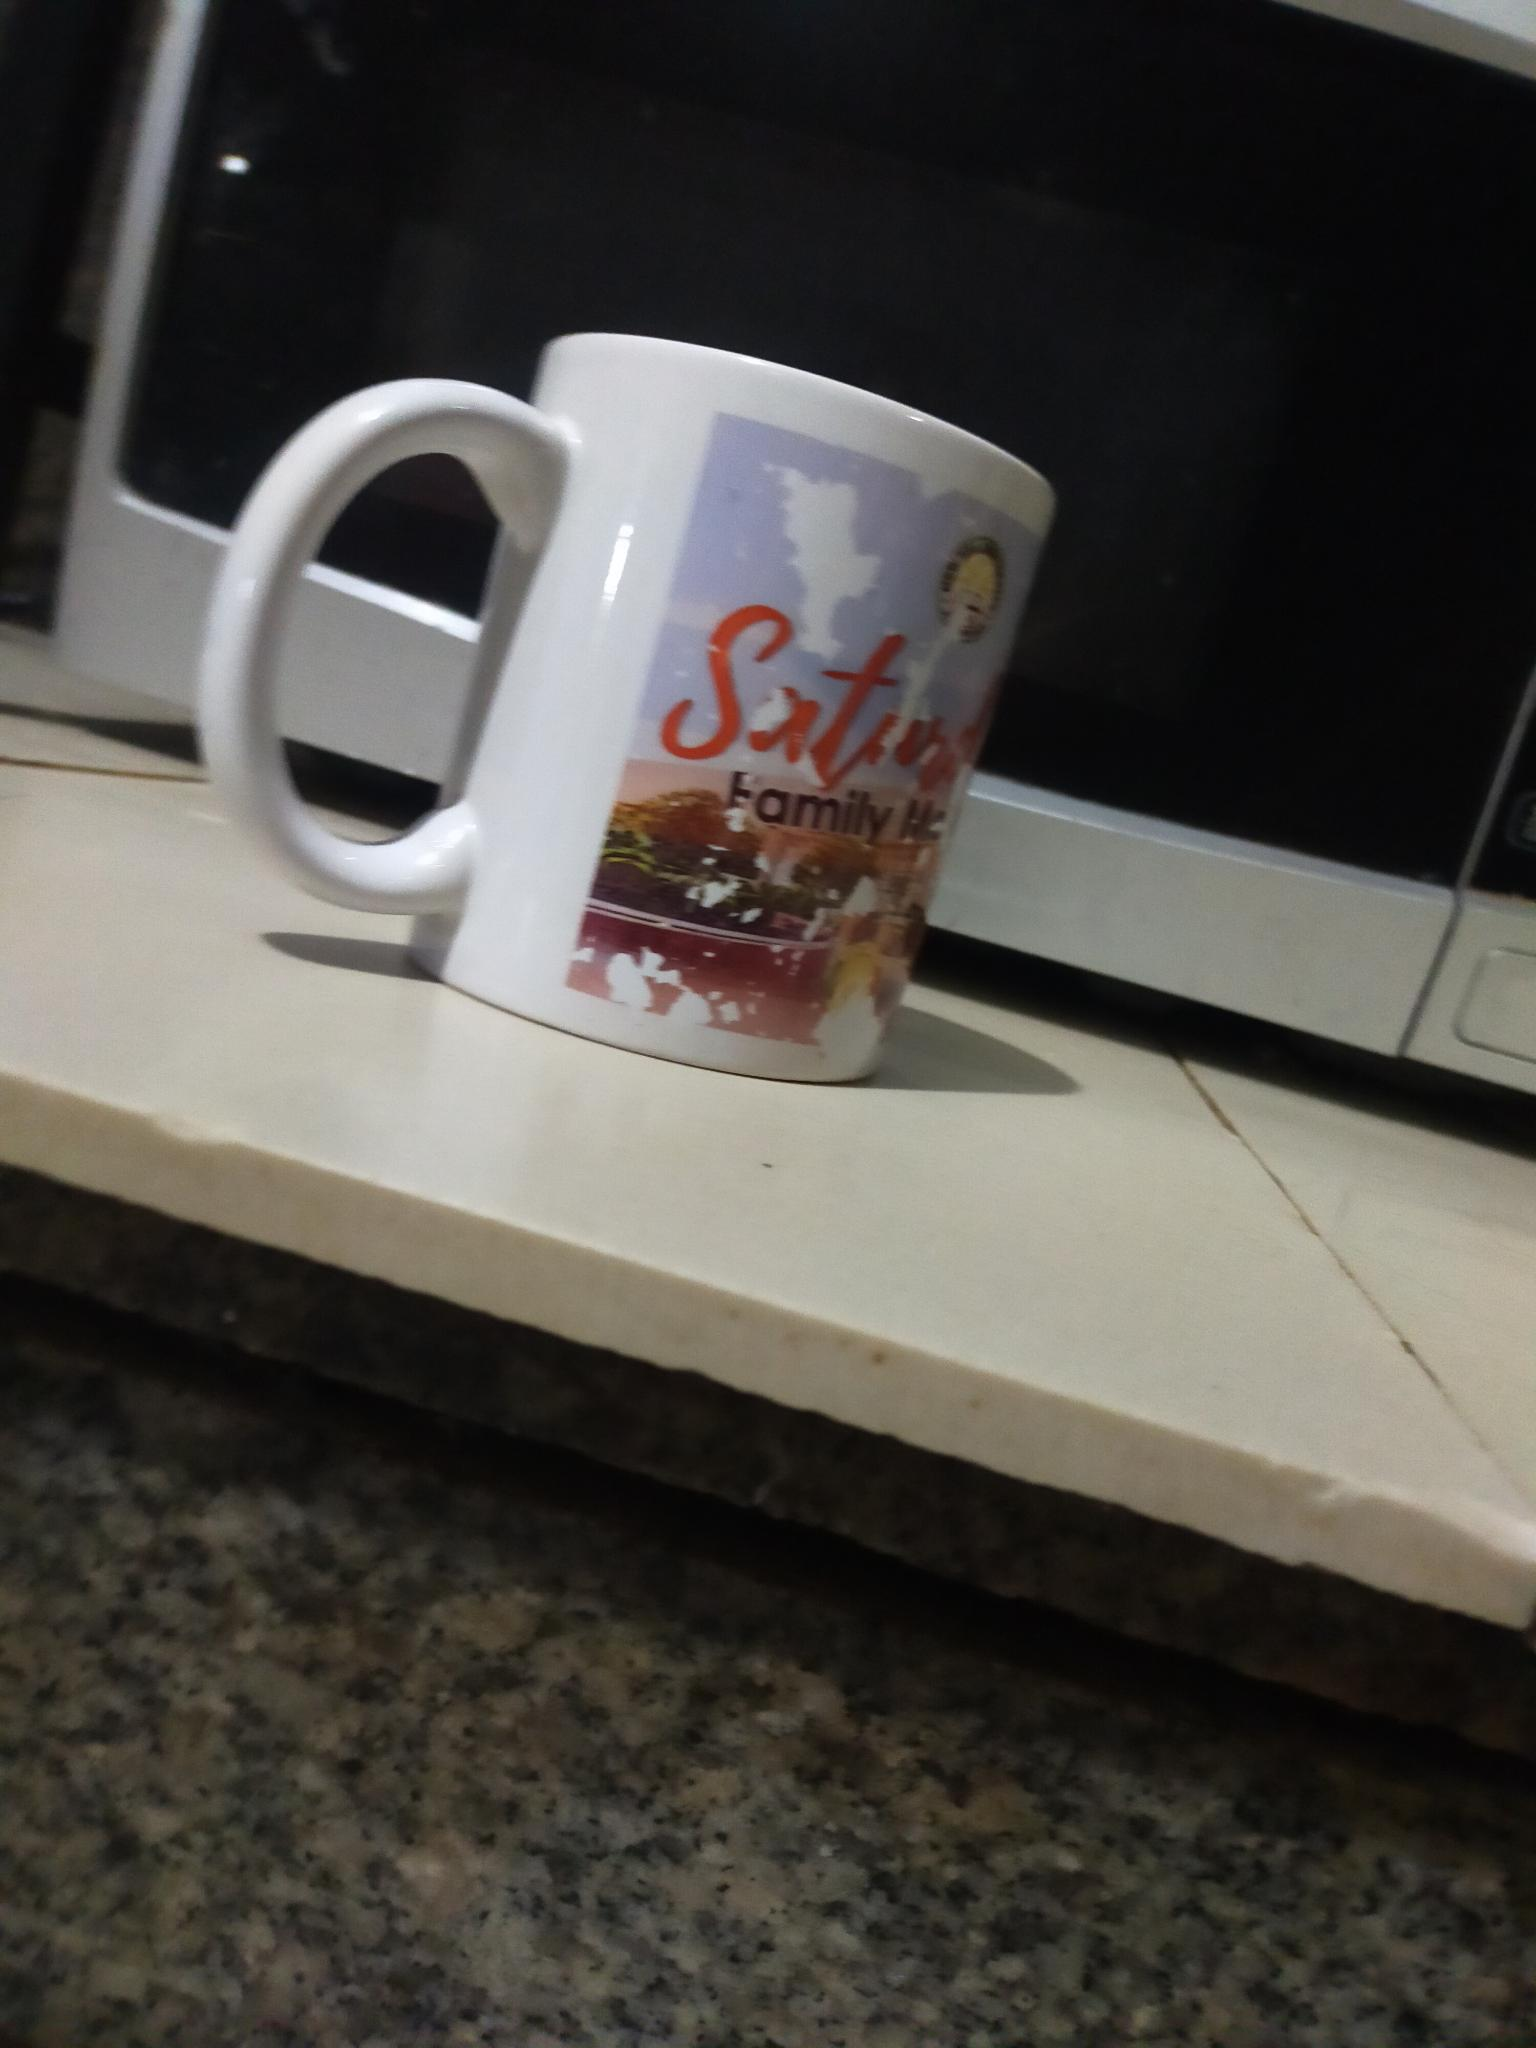Coffee Mug: (200, 329, 1052, 1085)
